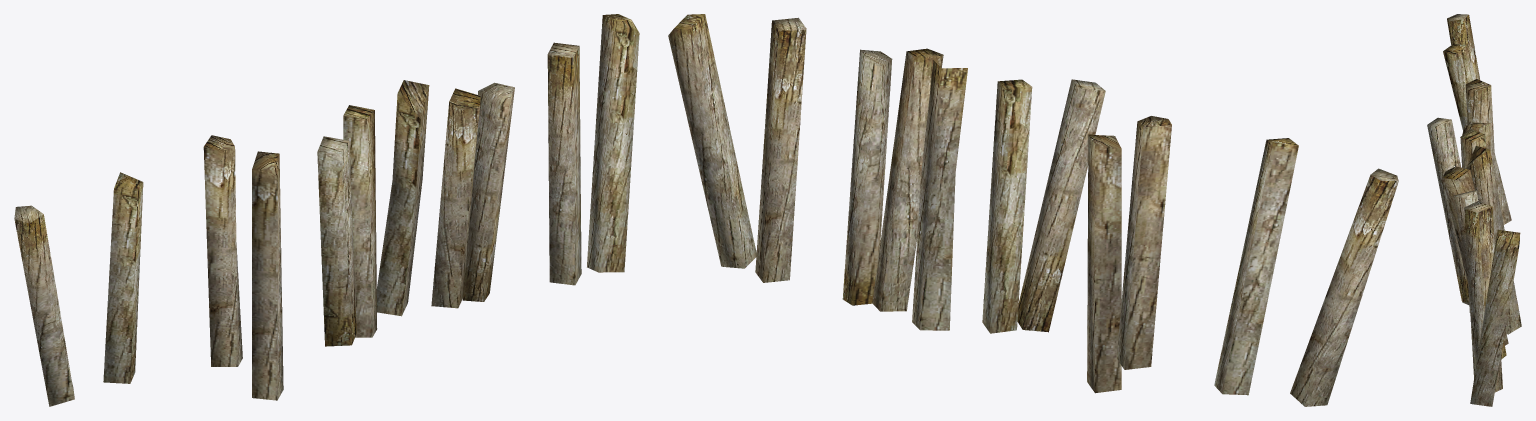
File: FenceB.FBX
3 renders of one model, left to right at view 1: azimuth 30°, elevation 25°; view 2: azimuth 150°, elevation 25°; view 3: azimuth 270°, elevation 25°, orthographic. The views are drawn at different scales.
Visible parts, largest first — view 1: FenceB; view 2: FenceB; view 3: FenceB.
Part boxes in pixels (<box>): FenceB: <box>14,14,639,406</box>; FenceB: <box>668,14,1398,406</box>; FenceB: <box>1427,14,1521,406</box>.
Size of the model in its own units: 9.87 by 3.96 by 1.64.
Materials: 1 (1 with a texture image).
